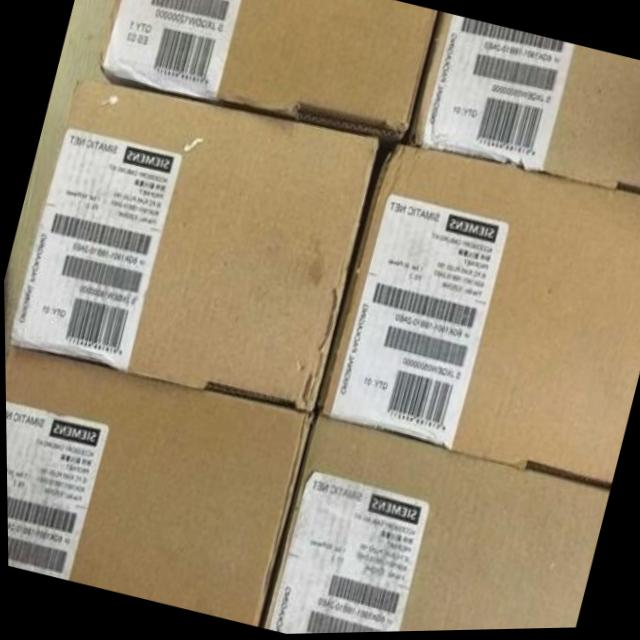box: (8, 76, 379, 414), (315, 145, 640, 490), (4, 344, 313, 627), (260, 416, 608, 635), (97, 0, 437, 146), (405, 14, 640, 197)
